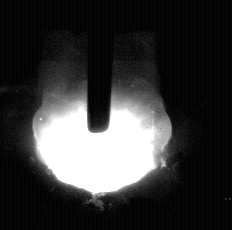arame: (88, 0, 112, 132)
poca: (34, 0, 172, 230)
